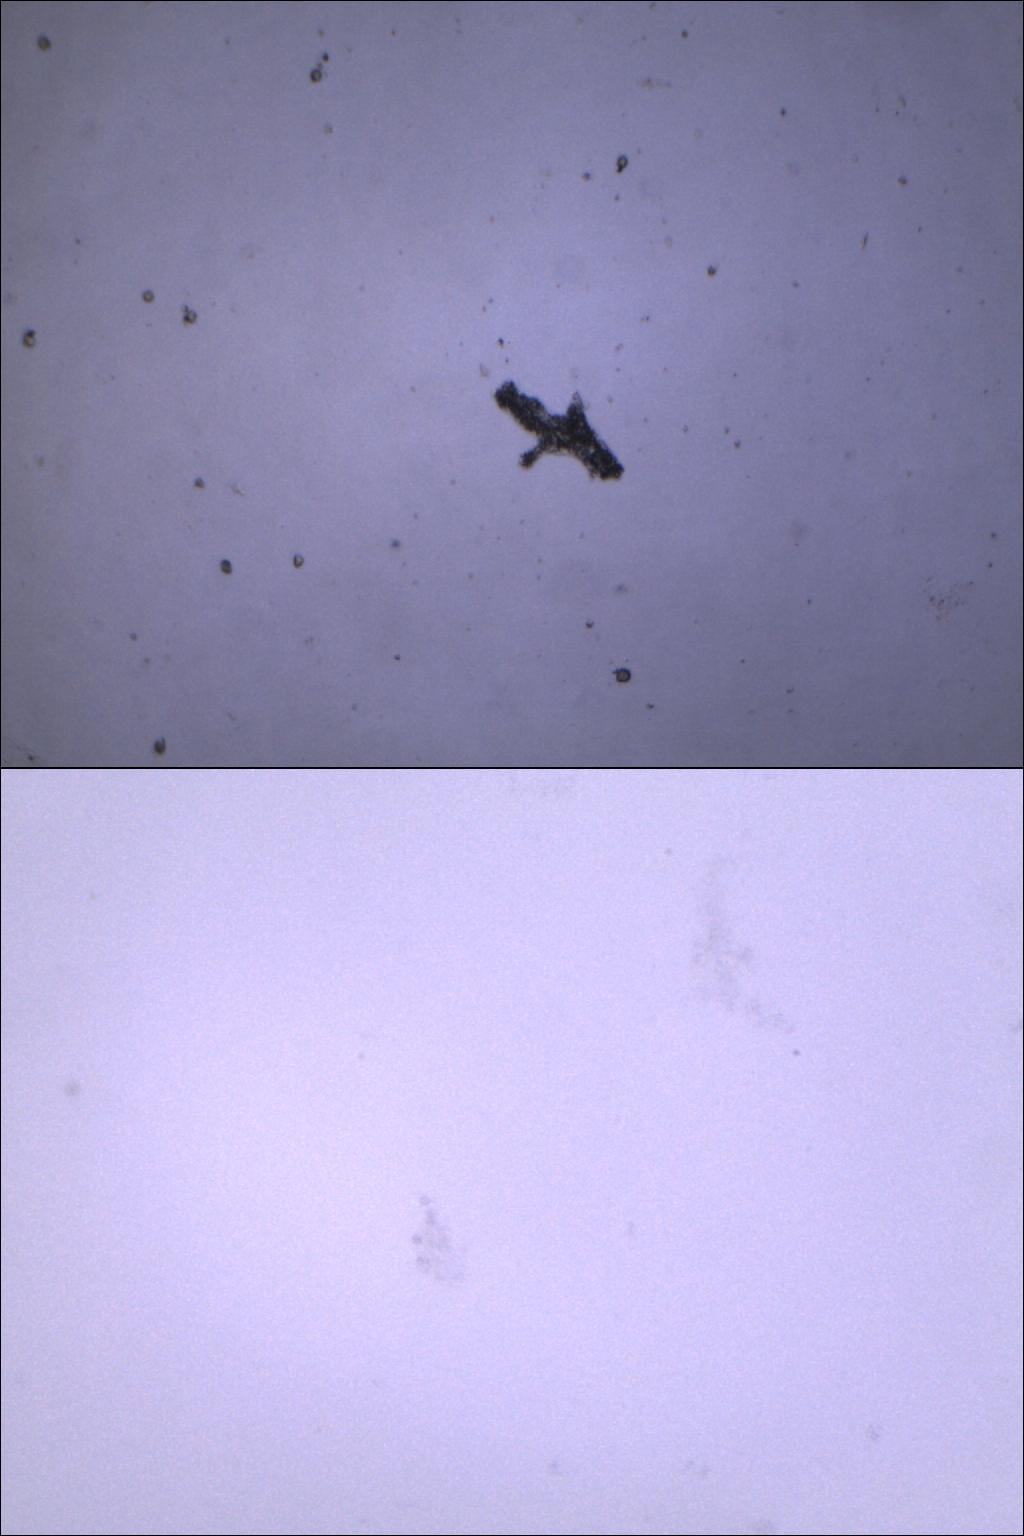N.Fowleri Amoeba: (401, 1182, 489, 1320)
Proteus Amoeba: (473, 363, 637, 495)
